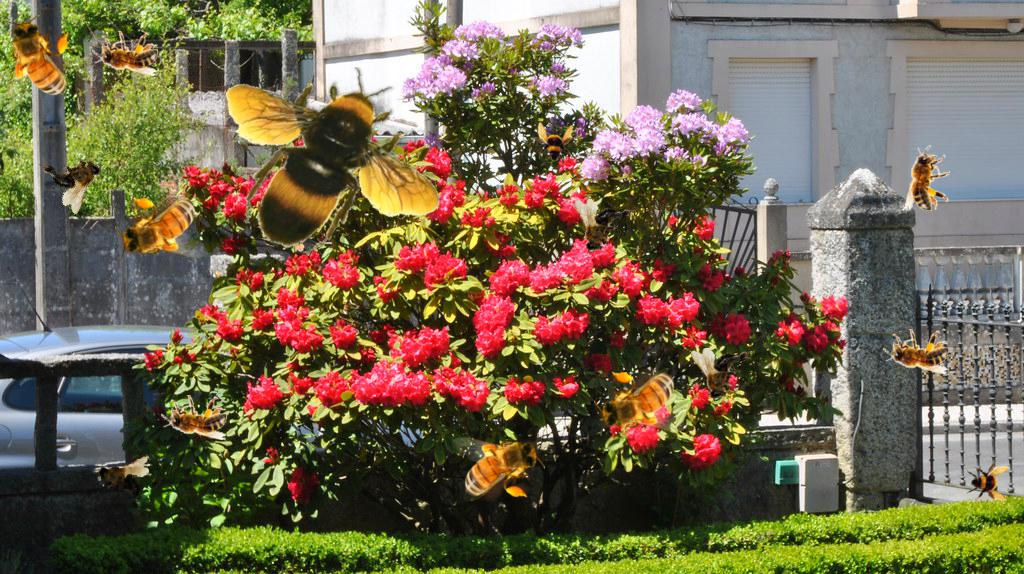Bee: (218, 60, 448, 263), (35, 135, 116, 217), (4, 15, 72, 108), (115, 194, 208, 262), (452, 433, 545, 501), (594, 368, 687, 436), (566, 196, 637, 260), (90, 446, 153, 518), (691, 348, 753, 401), (92, 31, 158, 76), (905, 145, 950, 211), (883, 329, 949, 374), (161, 395, 227, 440), (966, 459, 1010, 503), (531, 122, 575, 166)
